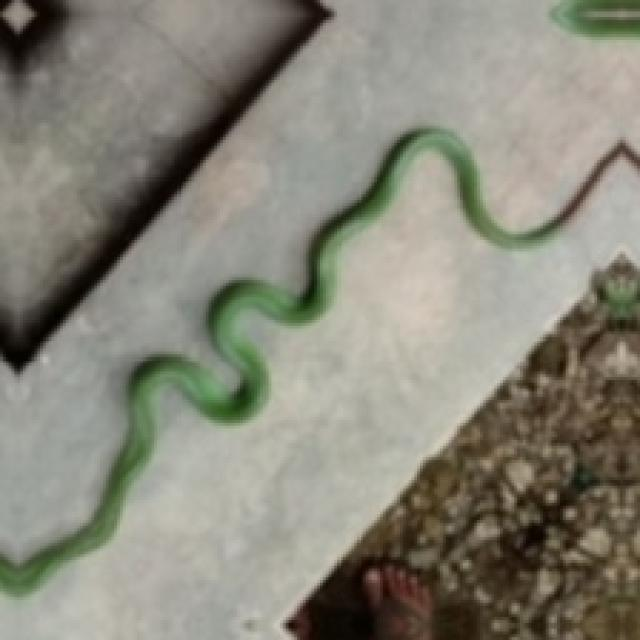red-tailed green ratsnake: (0, 129, 637, 594)
